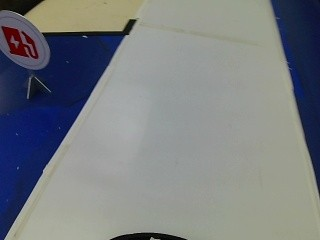battery: (0, 8, 52, 72)
